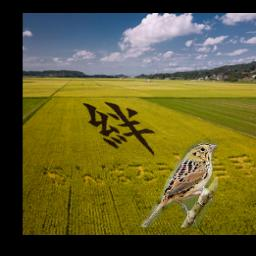Sparrow: (139, 141, 218, 227)
